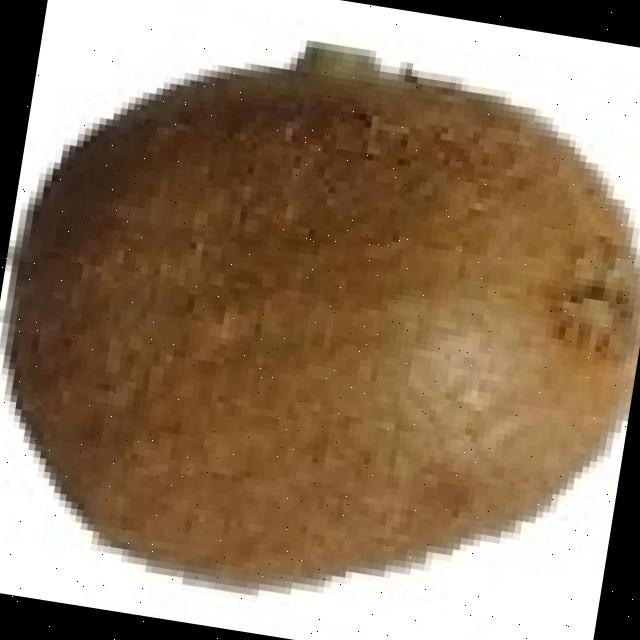kiwi: (15, 63, 640, 598)
